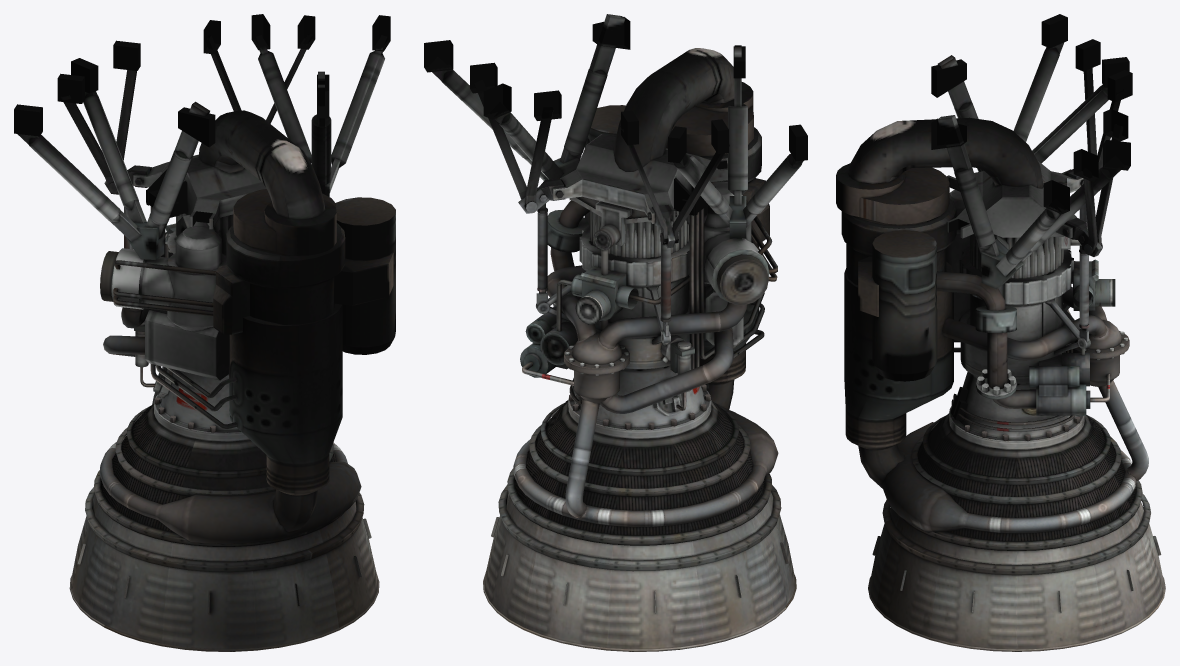
File: rocket-engine.glb
3 views of the same model, side by side, from view 1: azimuth 30°, elevation 25°; view 2: azimuth 150°, elevation 25°; view 3: azimuth 270°, elevation 25° (orthographic). The views are drawn at different scales.
Visible parts, largest first — view 1: Rocket_Engine; view 2: Rocket_Engine; view 3: Rocket_Engine.
Part boxes in pixels (x1,y1,x2,y2): Rocket_Engine: (14,14,395,651); Rocket_Engine: (424,14,807,651); Rocket_Engine: (836,14,1165,651).
Size of the model in its own units: 2.11 by 2.79 by 1.66.
1 material, 1 textured.
